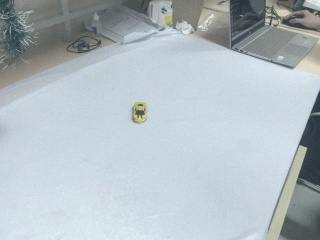toy_car: (132, 102, 147, 123)
